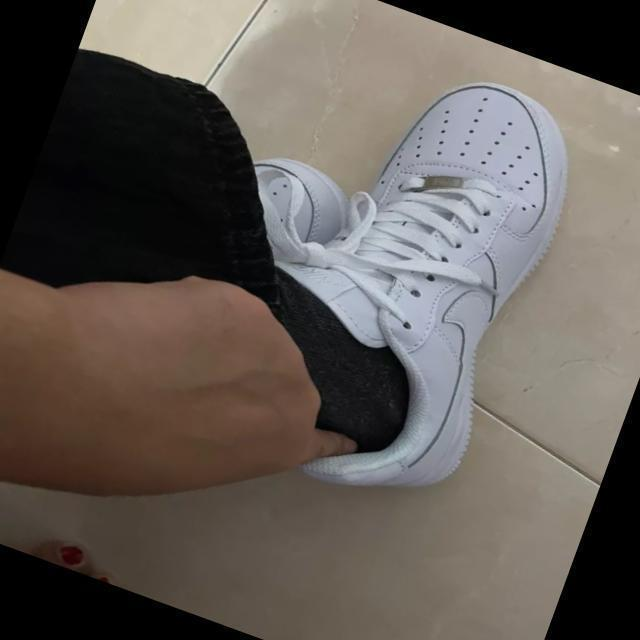nike fake air force: (183, 25, 602, 542)
